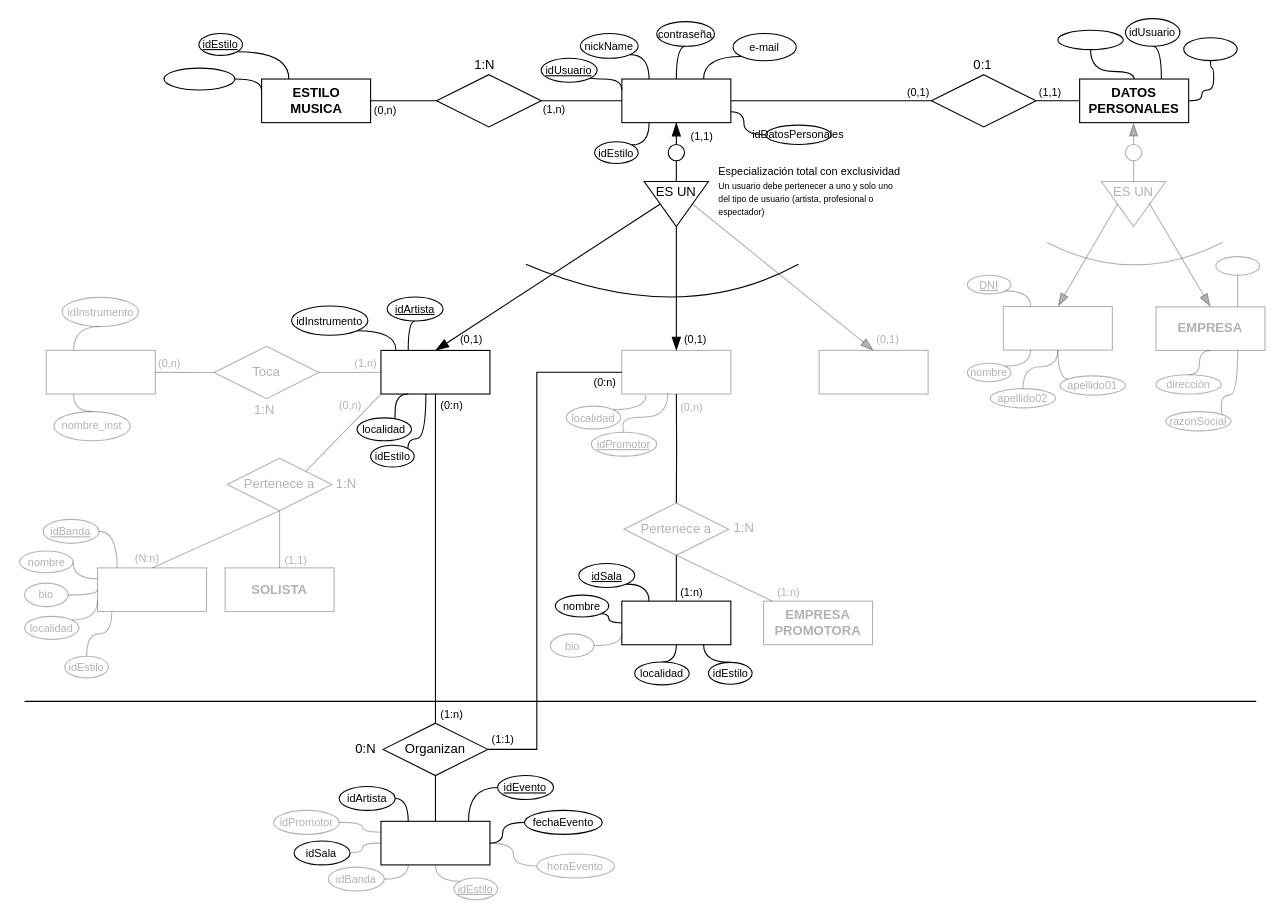
The diagram is 1284 pixels wide and 920 high, and some of its shapes have lost their labels. Here are the shapes that lost their labels. From the top down, the centre of each, then its label:
At point (1090, 39): "idDatosFisc".
At point (1210, 49): "numSeg".
At point (199, 78): "nombreEstilo".
At point (488, 100): "Le gusta".
At point (676, 100): "USUARIO".
At point (983, 100): "Tiene".
At point (1237, 265): "CIF".
At point (1057, 327): "FREELANCE".
At point (100, 371): "INSTRUMENTO".
At point (435, 371): "ARTISTA".
At point (676, 371): "PROMOTOR".
At point (873, 371): "ESPECTADOR".
At point (151, 589): "BANDA".
At point (676, 622): "SALA DE CONCIERTOS".
At point (435, 842): "EVENTOS".
